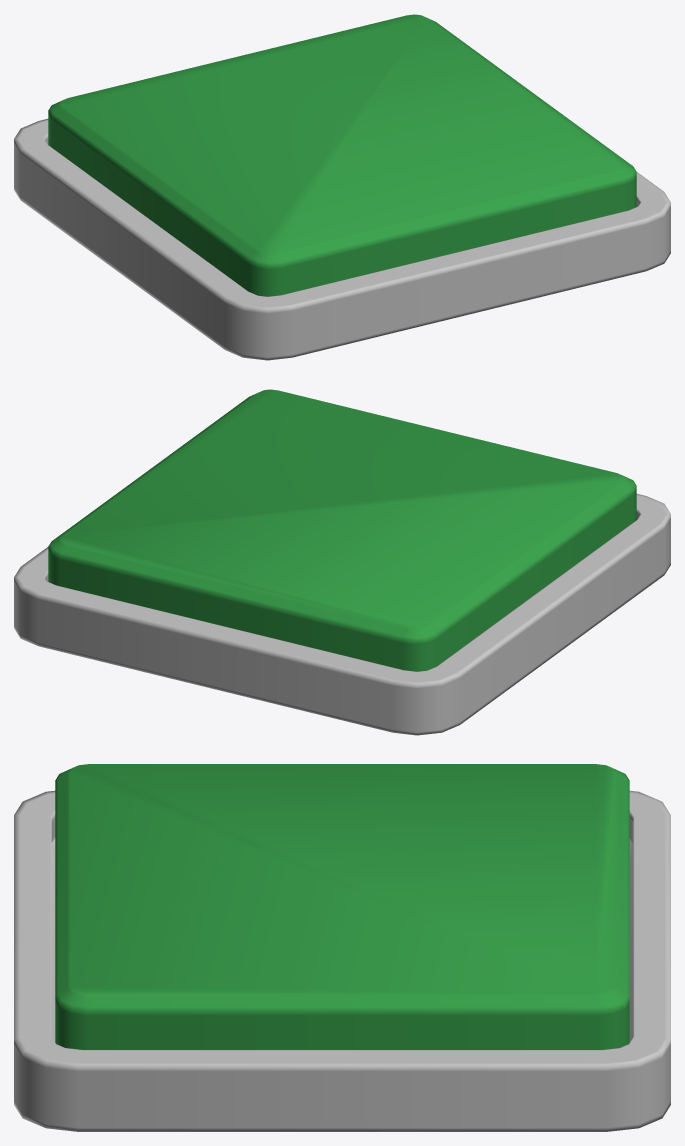
Rendered from placa.fbx.
3 renders of one model, top to bottom at view 1: azimuth 30°, elevation 25°; view 2: azimuth 150°, elevation 25°; view 3: azimuth 270°, elevation 25°, orthographic. The views are drawn at different scales.
Visible parts, largest first — view 1: Cube.003, Cube.002; view 2: Cube.003, Cube.002; view 3: Cube.003, Cube.002.
Boxes of the visible parts, box(x1,y1,x2,y2) form: Cube.003: box(48, 14, 636, 296); Cube.002: box(14, 118, 670, 360); Cube.003: box(48, 389, 636, 671); Cube.002: box(14, 493, 670, 735); Cube.003: box(55, 764, 629, 1049); Cube.002: box(14, 790, 670, 1131).
Bounding box in the file's own units: 181 × 34.74 × 181.
